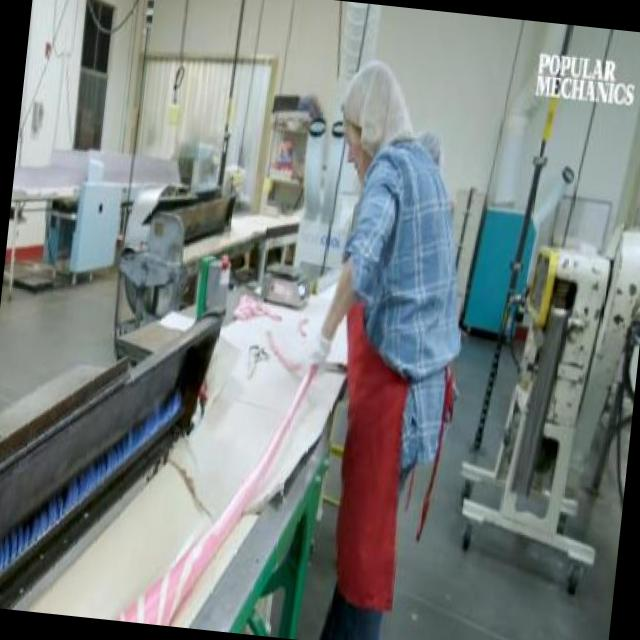hairnet: (340, 59, 416, 154)
